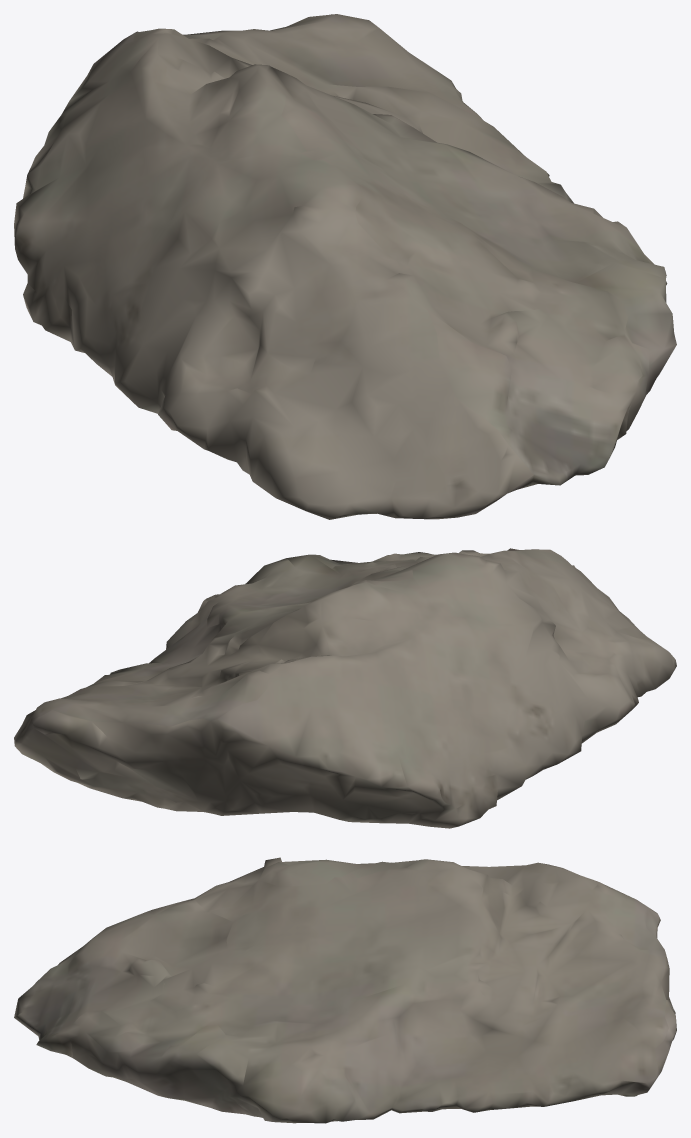
The model's file is moon_rock_04_lod1.glb.
3 renders of one model, top to bottom at view 1: azimuth 30°, elevation 25°; view 2: azimuth 150°, elevation 25°; view 3: azimuth 270°, elevation 25°, orthographic. The views are drawn at different scales.
Parts seen in each view (by area): view 1: moon_rock_04_LOD0; view 2: moon_rock_04_LOD0; view 3: moon_rock_04_LOD0.
Boxes of the visible parts, x1,y1,x2,y2 form: moon_rock_04_LOD0: [14, 14, 676, 519]; moon_rock_04_LOD0: [14, 548, 676, 828]; moon_rock_04_LOD0: [14, 857, 676, 1123].
Bounding box in the file's own units: 0.1198 × 0.0538 × 0.1738.
1 material, 1 textured.
